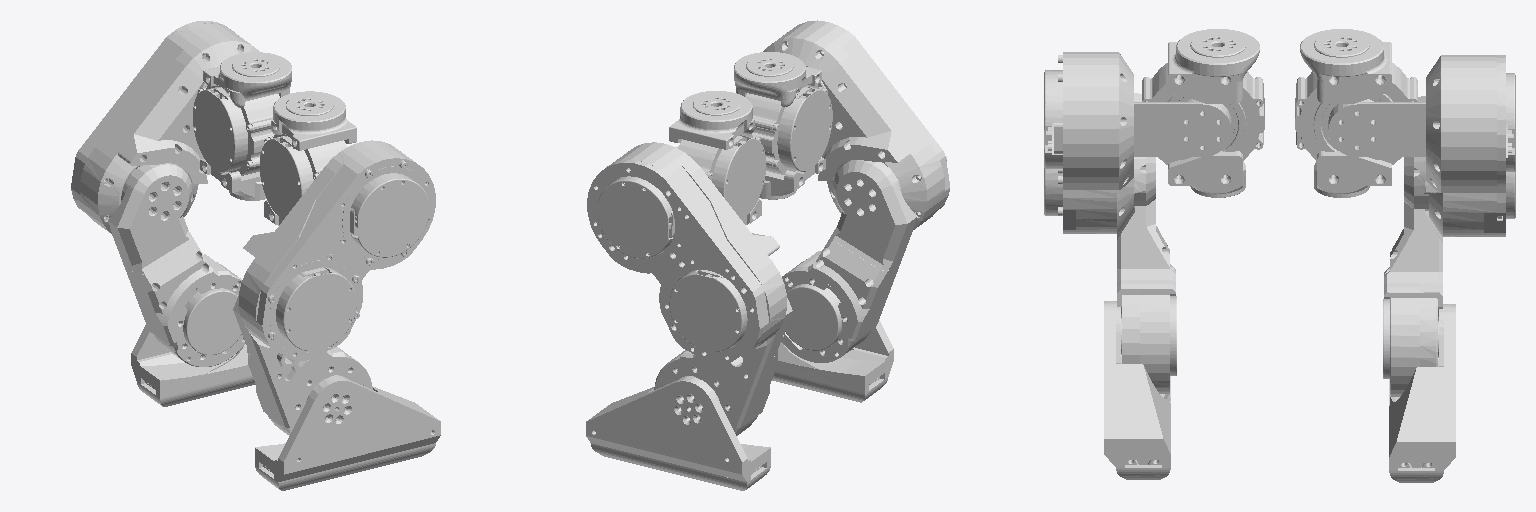
The robot description file, URDF, robot "bdx-new":
<?xml version="1.0" encoding="utf-8"?>
<!-- This URDF was automatically created by SolidWorks to URDF Exporter! Originally created by Stephen Brawner (brawner@gmail.com) 
     Commit Version: 1.6.0-4-g7f85cfe  Build Version: 1.6.7995.38578
     For more information, please see http://wiki.ros.org/sw_urdf_exporter -->
<robot
  name="bdx-new">
  <link
    name="base_link">
    <inertial>
      <origin
        xyz="-0.0276581857016612 6.84604553446836E-05 0.158142985837166"
        rpy="0 0 0" />
      <mass
        value="4.73314040219068" />
      <inertia
        ixx="0.0251021930028966"
        ixy="8.9894205542326E-06"
        ixz="0.00166535158701856"
        iyy="0.0218344748610268"
        iyz="-3.37086224650258E-05"
        izz="0.0185748162281014" />
    </inertial>
    <visual>
      <origin
        xyz="0 0 0"
        rpy="0 0 0" />
      <geometry>
        <mesh
          filename="./meshes/base_link.STL" />
      </geometry>
      <material
        name="">
        <color
          rgba="0.894117647058823 0.894117647058823 0.894117647058823 1" />
      </material>
    </visual>
    <collision>
      <origin
        xyz="0 0 0"
        rpy="0 0 0" />
      <geometry>
        <mesh
          filename="./meshes/base_link.STL" />
      </geometry>
    </collision>
  </link>
  <link
    name="left_hip_yaw_link">
    <inertial>
      <origin
        xyz="-0.00476675452829187 0.0112988153030815 -0.0638701339854205"
        rpy="0 0 0" />
      <mass
        value="1.02562866549168" />
      <inertia
        ixx="0.0012093332788792"
        ixy="-1.58058650451165E-06"
        ixz="-4.62827699195218E-09"
        iyy="0.000684025300309787"
        iyz="2.14920659846302E-07"
        izz="0.0007411767826987" />
    </inertial>
    <visual>
      <origin
        xyz="0 0 0"
        rpy="0 0 0" />
      <geometry>
        <mesh
          filename="./meshes/left_hip_yaw_link.STL" />
      </geometry>
      <material
        name="">
        <color
          rgba="0.894117647058823 0.894117647058823 0.894117647058823 1" />
      </material>
    </visual>
    <collision>
      <origin
        xyz="0 0 0"
        rpy="0 0 0" />
      <geometry>
        <mesh
          filename="./meshes/left_hip_yaw_link.STL" />
      </geometry>
    </collision>
  </link>
  <joint
    name="Left_Hip_Yaw"
    type="revolute">
    <origin
      xyz="-0.0174271774549065 0.0499999207521648 0.14674412153118"
      rpy="0 0 0" />
    <parent
      link="base_link" />
    <child
      link="left_hip_yaw_link" />
    <axis
      xyz="0 0.0279575622762108 0.999609110958665" />
    <limit
      lower="-0.26"
      upper="0.26"
      effort="35"
      velocity="20" />
    <dynamics
      damping="0.01"
      friction="0.1" />
  </joint>
  <link
    name="left_hip_roll_link">
    <inertial>
      <origin
        xyz="0.00233525636092457 0.0293203411444186 -9.38466735789789E-05"
        rpy="0 0 0" />
      <mass
        value="0.0454379712555155" />
      <inertia
        ixx="5.00705889951678E-05"
        ixy="5.71325005767984E-06"
        ixz="-1.13920078754682E-07"
        iyy="1.11274958676266E-05"
        iyz="1.68231383802059E-07"
        izz="4.62805753614898E-05" />
    </inertial>
    <visual>
      <origin
        xyz="0 0 0"
        rpy="0 0 0" />
      <geometry>
        <mesh
          filename="./meshes/left_hip_roll_link.STL" />
      </geometry>
      <material
        name="">
        <color
          rgba="0.894117647058823 0.894117647058823 0.894117647058823 1" />
      </material>
    </visual>
    <collision>
      <origin
        xyz="0 0 0"
        rpy="0 0 0" />
      <geometry>
        <mesh
          filename="./meshes/left_hip_roll_link.STL" />
      </geometry>
    </collision>
  </link>
  <joint
    name="Left_Hip_Roll"
    type="revolute">
    <origin
      xyz="0.0180000001727074 0.0125000000000007 -0.0642841181416407"
      rpy="0 0 0" />
    <parent
      link="left_hip_yaw_link" />
    <child
      link="left_hip_roll_link" />
    <axis
      xyz="-1 0 0" />
    <limit
      lower="-0.26"
      upper="0.35"
      effort="60"
      velocity="10" />
    <dynamics
      damping="0.01"
      friction="0.1" />
  </joint>
  <link
    name="left_hip_pitch_link">
    <inertial>
      <origin
        xyz="-0.0403189635998464 0.0211235816728226 -0.037943833290884"
        rpy="0 0 0" />
      <mass
        value="2.33426290191239" />
      <inertia
        ixx="0.00262214839823123"
        ixy="-4.50534645731912E-06"
        ixz="-0.000564126997031536"
        iyy="0.00478729757546074"
        iyz="-1.11655622867866E-05"
        izz="0.00268810544327589" />
    </inertial>
    <visual>
      <origin
        xyz="0 0 0"
        rpy="0 0 0" />
      <geometry>
        <mesh
          filename="./meshes/left_hip_pitch_link.STL" />
      </geometry>
      <material
        name="">
        <color
          rgba="0.894117647058823 0.894117647058823 0.894117647058823 1" />
      </material>
    </visual>
    <collision>
      <origin
        xyz="0 0 0"
        rpy="0 0 0" />
      <geometry>
        <mesh
          filename="./meshes/left_hip_pitch_link.STL" />
      </geometry>
    </collision>
  </link>
  <joint
    name="Left_Hip_Pitch"
    type="revolute">
    <origin
      xyz="-0.00864671488399997 0.07125 -0.00134072084500003"
      rpy="0 0 0" />
    <parent
      link="left_hip_roll_link" />
    <child
      link="left_hip_pitch_link" />
    <axis
      xyz="-0.000259155361818971 -0.99967537729627 0.0254769084870745" />
    <limit
      lower="-1.05"
      upper="0.7"
      effort="60"
      velocity="10" />
    <dynamics
      damping="0.01"
      friction="0.1" />
  </joint>
  <link
    name="left_knee_pitch_link">
    <inertial>
      <origin
        xyz="0.0282114911129433 -0.0242786108601633 -0.0955839765785965"
        rpy="0 0 0" />
      <mass
        value="0.862840096916256" />
      <inertia
        ixx="0.00124192127962525"
        ixy="-1.42689698601153E-05"
        ixz="0.000255296249911758"
        iyy="0.00167537639875952"
        iyz="3.21280668343386E-05"
        izz="0.000607655649281293" />
    </inertial>
    <visual>
      <origin
        xyz="0 0 0"
        rpy="0 0 0" />
      <geometry>
        <mesh
          filename="./meshes/left_knee_pitch_link.STL" />
      </geometry>
      <material
        name="">
        <color
          rgba="0.894117647058823 0.894117647058823 0.894117647058823 1" />
      </material>
    </visual>
    <collision>
      <origin
        xyz="0 0 0"
        rpy="0 0 0" />
      <geometry>
        <mesh
          filename="./meshes/left_knee_pitch_link.STL" />
      </geometry>
    </collision>
  </link>
  <joint
    name="Left_Knee"
    type="revolute">
    <origin
      xyz="-0.0785112045586557 0 -0.0785112118769354"
      rpy="0 0 0" />
    <parent
      link="left_hip_pitch_link" />
    <child
      link="left_knee_pitch_link" />
    <axis
      xyz="0 1 0" />
    <limit
      lower="-0.96"
      upper="1.31"
      effort="60"
      velocity="10" />
    <dynamics
      damping="0.01"
      friction="0.1" />
  </joint>
  <link
    name="left_ankle_pitch_link">
    <inertial>
      <origin
        xyz="0.0266225470083179 -0.00869359321713753 -0.0488555840988311"
        rpy="0 0 0" />
      <mass
        value="0.428331434520766" />
      <inertia
        ixx="0.000247230422130381"
        ixy="2.30254385185416E-05"
        ixz="2.43925706999283E-05"
        iyy="0.00107054862927349"
        iyz="-5.18531652643974E-05"
        izz="0.0010047274030524" />
    </inertial>
    <visual>
      <origin
        xyz="0 0 0"
        rpy="0 0 0" />
      <geometry>
        <mesh
          filename="./meshes/left_ankle_pitch_link.STL" />
      </geometry>
      <material
        name="">
        <color
          rgba="0.894117647058823 0.894117647058823 0.894117647058823 1" />
      </material>
    </visual>
    <collision>
      <origin
        xyz="0 0 0"
        rpy="0 0 0" />
      <geometry>
        <mesh
          filename="./meshes/left_ankle_pitch_link.STL" />
      </geometry>
    </collision>
  </link>
  <joint
    name="Left_Ankle"
    type="revolute">
    <origin
      xyz="0.0458978268932277 -0.00533999644783142 -0.129815812591883"
      rpy="0 0 0" />
    <parent
      link="left_knee_pitch_link" />
    <child
      link="left_ankle_pitch_link" />
    <axis
      xyz="0 -1 0" />
    <limit
      lower="-0.79"
      upper="1.22"
      effort="14"
      velocity="30" />
    <dynamics
      damping="0.01"
      friction="0.1" />
  </joint>
  <link
    name="right_hip_yaw_link">
    <inertial>
      <origin
        xyz="-0.00481556120432747 -0.0113866497512351 -0.0632600928382813"
        rpy="0 0 0" />
      <mass
        value="1.01139379330214" />
      <inertia
        ixx="0.00120408366691331"
        ixy="1.48831949431946E-06"
        ixz="3.993306763639E-07"
        iyy="0.000678027947526872"
        iyz="-1.51225244034586E-06"
        izz="0.000732146587640418" />
    </inertial>
    <visual>
      <origin
        xyz="0 0 0"
        rpy="0 0 0" />
      <geometry>
        <mesh
          filename="./meshes/right_hip_yaw_link.STL" />
      </geometry>
      <material
        name="">
        <color
          rgba="0.894117647058823 0.894117647058823 0.894117647058823 1" />
      </material>
    </visual>
    <collision>
      <origin
        xyz="0 0 0"
        rpy="0 0 0" />
      <geometry>
        <mesh
          filename="./meshes/right_hip_yaw_link.STL" />
      </geometry>
    </collision>
  </link>
  <joint
    name="Right_Hip_Yaw"
    type="revolute">
    <origin
      xyz="-0.0174271774549065 -0.0500000789738338 0.14674412153118"
      rpy="0 0 0" />
    <parent
      link="base_link" />
    <child
      link="right_hip_yaw_link" />
    <axis
      xyz="0 -0.0279575622762108 0.999609110958665" />
    <limit
      lower="-0.26"
      upper="0.26"
      effort="35"
      velocity="20" />
    <dynamics
      damping="0.01"
      friction="0.1" />
  </joint>
  <link
    name="right_hip_roll_link">
    <inertial>
      <origin
        xyz="0.0023352563609246 -0.0293203411444186 9.38466735789512E-05"
        rpy="0 0 0" />
      <mass
        value="0.0454379712555154" />
      <inertia
        ixx="5.00705889951677E-05"
        ixy="-5.71325005767982E-06"
        ixz="1.13920078754673E-07"
        iyy="1.11274958676266E-05"
        iyz="1.68231383802039E-07"
        izz="4.62805753614898E-05" />
    </inertial>
    <visual>
      <origin
        xyz="0 0 0"
        rpy="0 0 0" />
      <geometry>
        <mesh
          filename="./meshes/right_hip_roll_link.STL" />
      </geometry>
      <material
        name="">
        <color
          rgba="0.894117647058823 0.894117647058823 0.894117647058823 1" />
      </material>
    </visual>
    <collision>
      <origin
        xyz="0 0 0"
        rpy="0 0 0" />
      <geometry>
        <mesh
          filename="./meshes/right_hip_roll_link.STL" />
      </geometry>
    </collision>
  </link>
  <joint
    name="Right_Hip_Roll"
    type="revolute">
    <origin
      xyz="0.018 -0.0125000000000007 -0.0642841181899999"
      rpy="0 0 0" />
    <parent
      link="right_hip_yaw_link" />
    <child
      link="right_hip_roll_link" />
    <axis
      xyz="-1 0 0" />
    <limit
      lower="-0.35"
      upper="0.26"
      effort="60"
      velocity="10" />
    <dynamics
      damping="0.01"
      friction="0.1" />
  </joint>
  <link
    name="right_hip_pitch">
    <inertial>
      <origin
        xyz="-0.0402800058577733 -0.0204315014506759 -0.0380191062326041"
        rpy="0 0 0" />
      <mass
        value="2.27380475464638" />
      <inertia
        ixx="0.00248158167656561"
        ixy="5.35644326258434E-06"
        ixz="-0.000494110669394746"
        iyy="0.00450123204599971"
        iyz="1.2194993020669E-05"
        izz="0.00254351277277143" />
    </inertial>
    <visual>
      <origin
        xyz="0 0 0"
        rpy="0 0 0" />
      <geometry>
        <mesh
          filename="./meshes/right_hip_pitch.STL" />
      </geometry>
      <material
        name="">
        <color
          rgba="0.894117647058823 0.894117647058823 0.894117647058823 1" />
      </material>
    </visual>
    <collision>
      <origin
        xyz="0 0 0"
        rpy="0 0 0" />
      <geometry>
        <mesh
          filename="./meshes/right_hip_pitch.STL" />
      </geometry>
    </collision>
  </link>
  <joint
    name="Right_Hip_Pitch"
    type="revolute">
    <origin
      xyz="-0.00864671488400002 -0.07125 0.00134072084499991"
      rpy="0 0 0" />
    <parent
      link="right_hip_roll_link" />
    <child
      link="right_hip_pitch" />
    <axis
      xyz="-0.00025915536181831 0.99967537729627 0.0254769084870742" />
    <limit
      lower="-0.7"
      upper="1.05"
      effort="60"
      velocity="10" />
    <dynamics
      damping="0.01"
      friction="0.1" />
  </joint>
  <link
    name="right_knee_pitch">
    <inertial>
      <origin
        xyz="0.0283251603473263 0.024381305485284 -0.0957295797290616"
        rpy="0 0 0" />
      <mass
        value="0.858747129305143" />
      <inertia
        ixx="0.00124014135013208"
        ixy="1.41360168007897E-05"
        ixz="0.000256365522627877"
        iyy="0.00167457723172846"
        iyz="-3.09812041139265E-05"
        izz="0.000607923873295736" />
    </inertial>
    <visual>
      <origin
        xyz="0 0 0"
        rpy="0 0 0" />
      <geometry>
        <mesh
          filename="./meshes/right_knee_pitch.STL" />
      </geometry>
      <material
        name="">
        <color
          rgba="0.894117647058823 0.894117647058823 0.894117647058823 1" />
      </material>
    </visual>
    <collision>
      <origin
        xyz="0 0 0"
        rpy="0 0 0" />
      <geometry>
        <mesh
          filename="./meshes/right_knee_pitch.STL" />
      </geometry>
    </collision>
  </link>
  <joint
    name="Right_Knee"
    type="revolute">
    <origin
      xyz="-0.0785112045586557 0 -0.0785112118769354"
      rpy="0 0 0" />
    <parent
      link="right_hip_pitch" />
    <child
      link="right_knee_pitch" />
    <axis
      xyz="0.0254782265387592 -0.99967537729627 0" />
    <limit
      lower="-1.31"
      upper="0.96"
      effort="60"
      velocity="10" />
    <dynamics
      damping="0.01"
      friction="0.1" />
  </joint>
  <link
    name="right_ankle_pitch">
    <inertial>
      <origin
        xyz="0.0266223532841855 0.00868125304139244 -0.0488556176013745"
        rpy="0 0 0" />
      <mass
        value="0.428331858731533" />
      <inertia
        ixx="0.00024722856977865"
        ixy="-2.30249933822012E-05"
        ixz="2.43928975473575E-05"
        iyy="0.00107054886280354"
        iyz="5.18520000373172E-05"
        izz="0.00100472694685369" />
    </inertial>
    <visual>
      <origin
        xyz="0 0 0"
        rpy="0 0 0" />
      <geometry>
        <mesh
          filename="./meshes/right_ankle_pitch.STL" />
      </geometry>
      <material
        name="">
        <color
          rgba="0.894117647058823 0.894117647058823 0.894117647058823 1" />
      </material>
    </visual>
    <collision>
      <origin
        xyz="0 0 0"
        rpy="0 0 0" />
      <geometry>
        <mesh
          filename="./meshes/right_ankle_pitch.STL" />
      </geometry>
    </collision>
  </link>
  <joint
    name="Right_Ankle"
    type="revolute">
    <origin
      xyz="0.0458978268932277 0.00533999644783134 -0.129815812591883"
      rpy="0 0 0" />
    <parent
      link="right_knee_pitch" />
    <child
      link="right_ankle_pitch" />
    <axis
      xyz="0 1 0" />
    <limit
      lower="-1.22"
      upper="0.79"
      effort="14"
      velocity="30" />
    <dynamics
      damping="0.01"
      friction="0.1" />
  </joint>
</robot>

--- Render facts (derived) ---
3 views of the same robot in one strip: view 1: azimuth 30°, elevation 25°; view 2: azimuth 150°, elevation 25°; view 3: azimuth 270°, elevation 25° (orthographic).
Model bdx-new with 11 links and 10 joints (10 revolute), rooted at base_link, posed all joints at 0.
Links seen in each view (by area): view 1: right_hip_pitch, left_knee_pitch_link, left_hip_pitch_link, right_ankle_pitch, left_hip_yaw_link, right_hip_yaw_link, right_knee_pitch, left_ankle_pitch_link; view 2: left_hip_pitch_link, right_knee_pitch, right_hip_pitch, left_ankle_pitch_link, right_hip_yaw_link, left_hip_yaw_link, left_knee_pitch_link, right_ankle_pitch; view 3: left_hip_pitch_link, right_hip_pitch, left_hip_yaw_link, right_hip_yaw_link, left_knee_pitch_link, right_knee_pitch, left_ankle_pitch_link, right_ankle_pitch, left_hip_roll_link, right_hip_roll_link.
Boxes of the visible links, <box> form: right_hip_pitch: <box>238,140,435,360</box>; left_knee_pitch_link: <box>108,163,244,366</box>; left_hip_pitch_link: <box>71,21,259,233</box>; right_ankle_pitch: <box>255,375,440,490</box>; left_hip_yaw_link: <box>193,52,291,200</box>; right_hip_yaw_link: <box>260,91,356,225</box>; right_knee_pitch: <box>233,296,372,435</box>; left_ankle_pitch_link: <box>131,325,255,406</box>; left_hip_pitch_link: <box>587,142,786,363</box>; right_knee_pitch: <box>781,160,916,362</box>; right_hip_pitch: <box>763,20,949,229</box>; left_ankle_pitch_link: <box>586,376,770,490</box>; right_hip_yaw_link: <box>734,52,832,199</box>; left_hip_yaw_link: <box>669,91,765,224</box>; left_knee_pitch_link: <box>654,298,792,435</box>; right_ankle_pitch: <box>772,320,893,402</box>; left_hip_pitch_link: <box>1414,55,1515,236</box>; right_hip_pitch: <box>1044,52,1145,233</box>; left_hip_yaw_link: <box>1295,29,1417,197</box>; right_hip_yaw_link: <box>1142,29,1264,197</box>; left_knee_pitch_link: <box>1383,157,1442,396</box>; right_knee_pitch: <box>1117,157,1176,393</box>; left_ankle_pitch_link: <box>1389,304,1455,482</box>; right_ankle_pitch: <box>1104,301,1170,479</box>; left_hip_roll_link: <box>1328,100,1425,156</box>; right_hip_roll_link: <box>1134,100,1231,156</box>.
Bounding box of the posed robot: 0.2126 × 0.3807 × 0.3552 m (x, y, z).
Meshes: 11 distinct files referenced, 10 mesh visuals loaded (10 binary STL); not drawn: 1 (reference not matched to a file when rendering).
